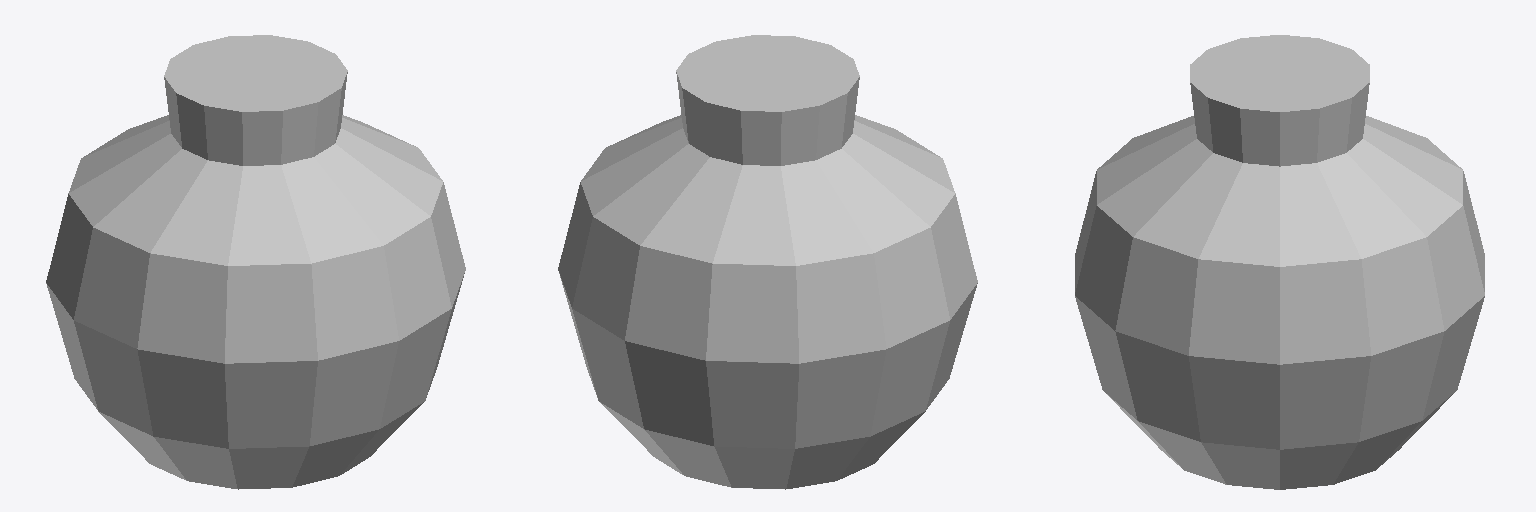
Rendered from Waza Up.obj.
3 renders of one model, left to right at view 1: azimuth 30°, elevation 25°; view 2: azimuth 150°, elevation 25°; view 3: azimuth 270°, elevation 25°, orthographic.
Visible parts, largest first — view 1: maru; view 2: maru; view 3: maru.
Part boxes in pixels (x1,y1,x2,y2): maru: (46,35,465,489); maru: (558,35,977,489); maru: (1075,35,1484,489).
Size of the model in its own units: 1.65 by 1.58 by 1.61.